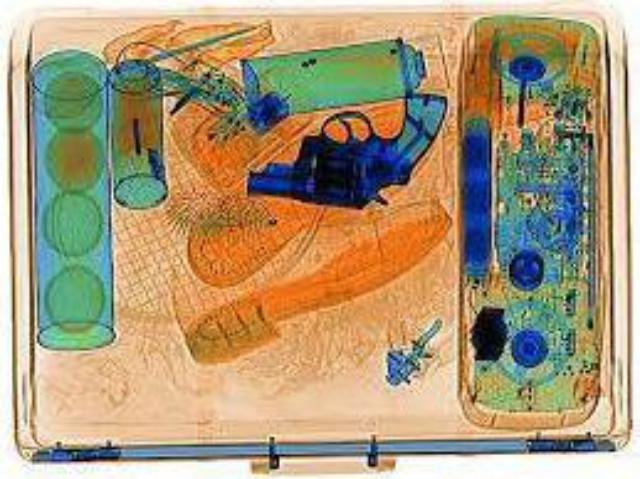Gun: (240, 86, 446, 205)
